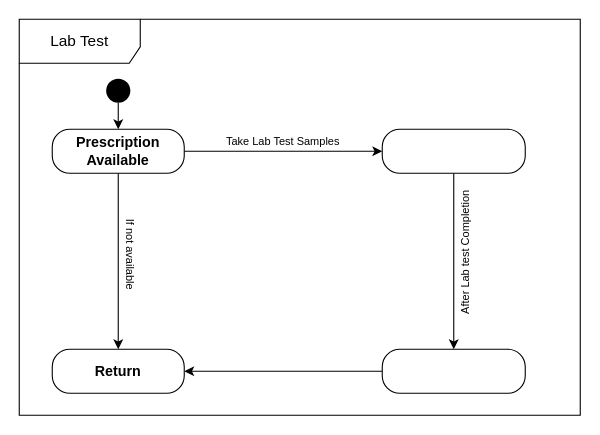
Some shapes in this 600 by 435 pixel diagram are drawn without their labels. Here are the shapes that lost their labels. From the top down, the box of each, then its label:
(381, 128, 525, 173): LabTest Complete
(381, 348, 525, 393): Test Result Declared
